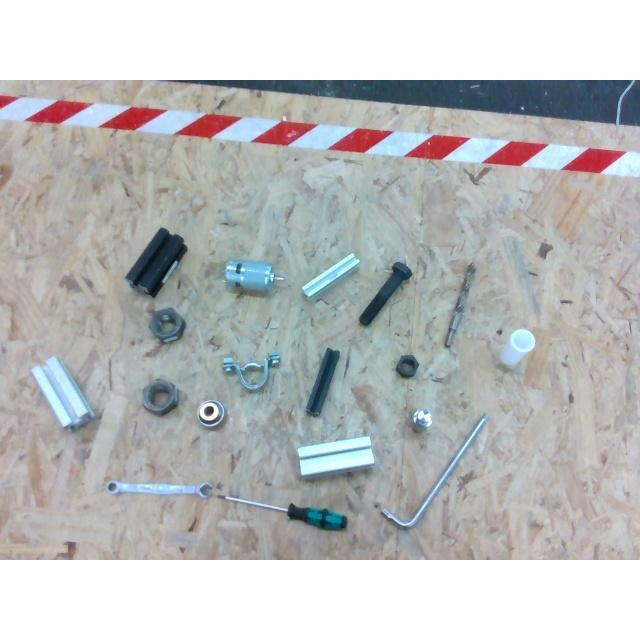AllenKey: (374, 412, 486, 528)
Axis2: (408, 410, 432, 430)
Bearing2: (197, 400, 225, 424)
Drill: (444, 262, 476, 348)
F20_20_B: (306, 348, 338, 416)
F20_20_G: (301, 253, 359, 297)
Housing: (222, 354, 280, 390)
M20: (394, 354, 418, 374)
M20_100: (359, 262, 411, 326)
M30: (142, 379, 178, 413), (149, 308, 185, 342)
Motor2: (225, 260, 283, 292)
S40_40_B: (126, 226, 186, 294)
S40_40_G: (32, 357, 96, 428), (296, 436, 372, 476)
Screwdriver: (218, 494, 346, 530)
Spacer: (500, 329, 536, 367)
Wrench: (105, 482, 212, 498)
